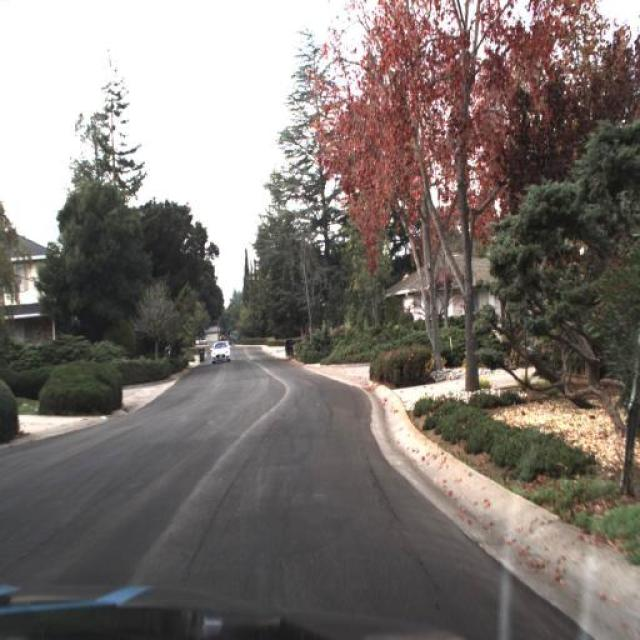car: (208, 337, 232, 364)
